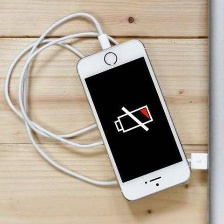phone: (74, 36, 194, 203)
